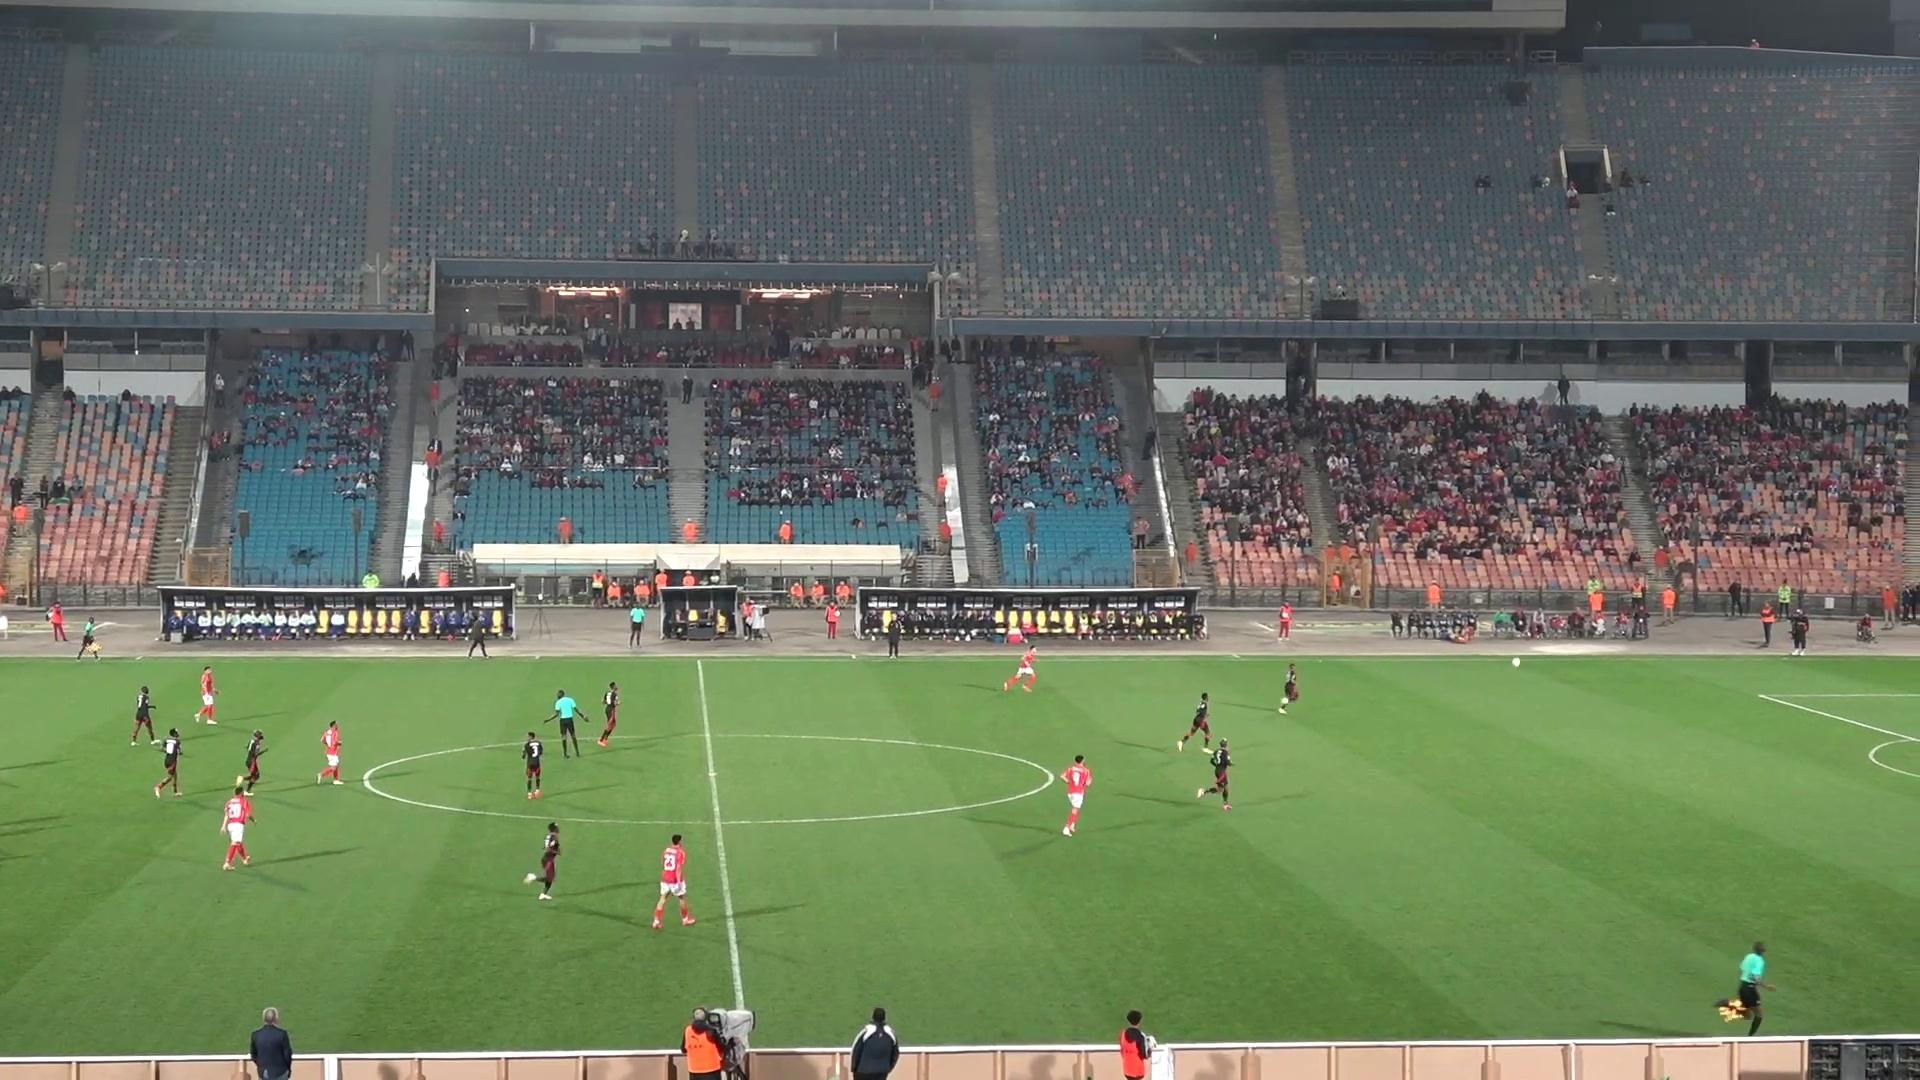Ball: (1510, 655, 1532, 669)
Refree: (1716, 942, 1767, 1035), (547, 688, 587, 757), (75, 617, 102, 661)
Team1: (651, 833, 696, 930), (219, 786, 253, 870), (1060, 756, 1092, 836), (316, 721, 343, 785), (193, 666, 219, 725), (1004, 646, 1038, 691)
Team2: (522, 824, 560, 899), (1196, 738, 1233, 810), (1175, 694, 1216, 752), (152, 727, 183, 796), (233, 731, 268, 793), (131, 684, 161, 746), (596, 680, 622, 746), (521, 731, 545, 799), (1275, 663, 1300, 713)
